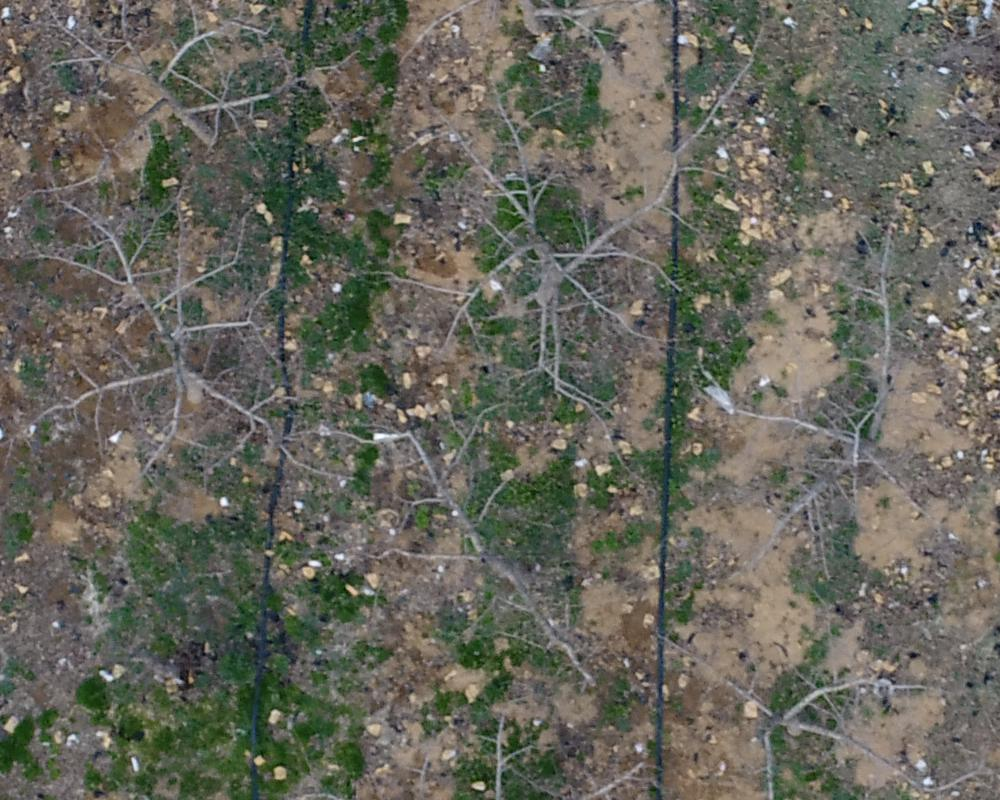apple: (374, 94, 725, 419), (10, 164, 340, 482), (316, 395, 621, 699), (718, 215, 958, 565), (646, 620, 982, 790), (21, 10, 320, 168)
